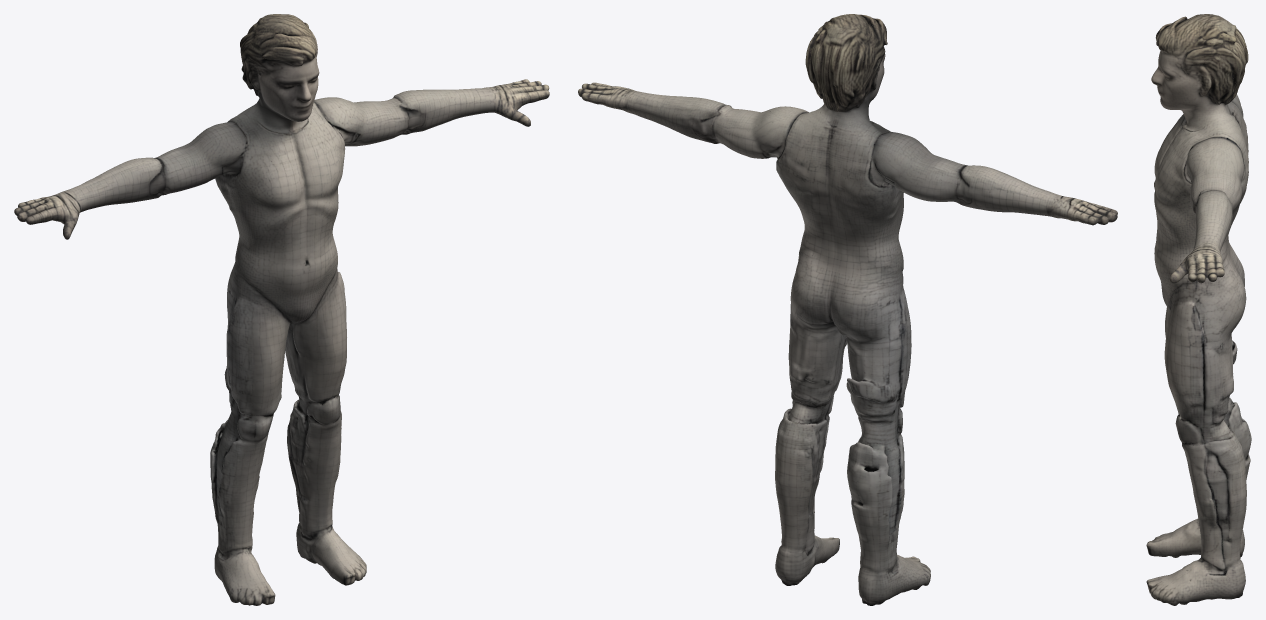
The model's file is t pose figurina.glb.
3 views of the same model, side by side, from view 1: azimuth 30°, elevation 25°; view 2: azimuth 150°, elevation 25°; view 3: azimuth 270°, elevation 25° (orthographic).
Visible parts, largest first — view 1: world; view 2: world; view 3: world.
Part boxes in pixels (x1,y1,x2,y2): world: (14,14,549,605); world: (578,14,1117,605); world: (1146,14,1251,605).
Bounding box in the file's own units: 0.9913 × 1 × 0.1707.
1 material, 1 textured.
